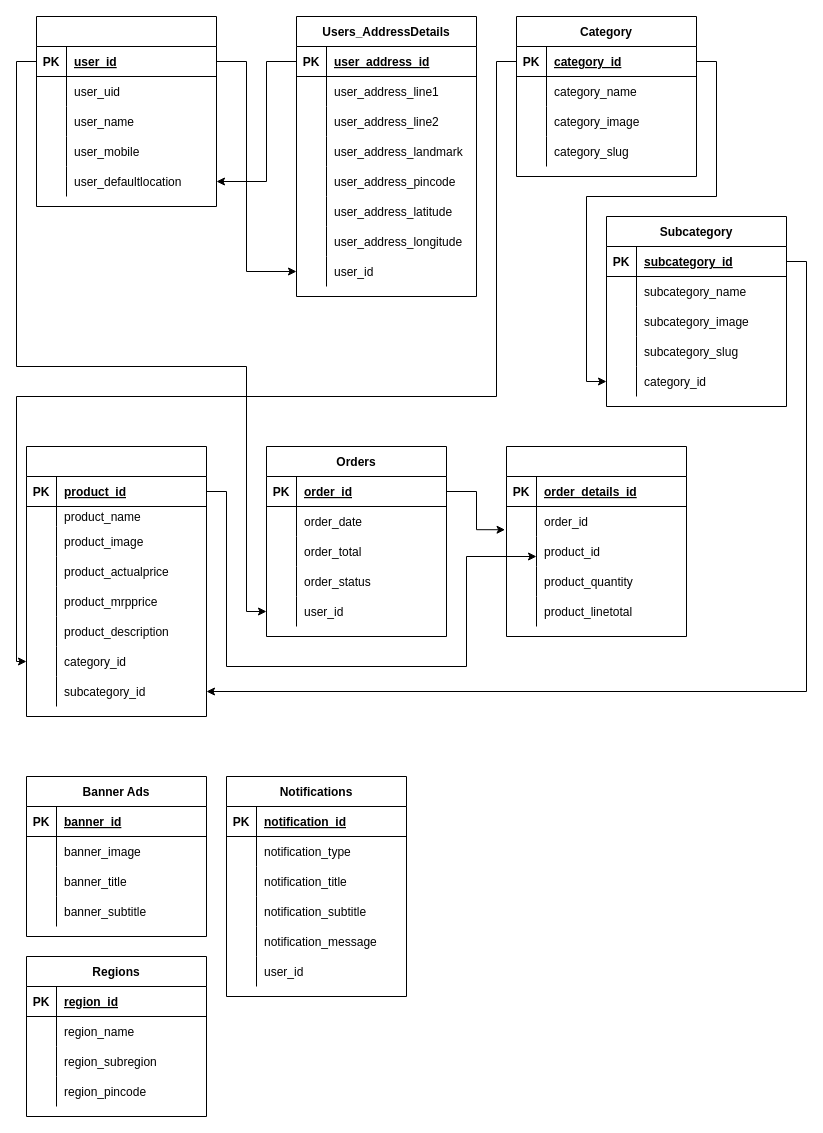
This 823x1133 diagram has some shape labels left out. The box of each missing label's shape, as (x1, y1, x2, y2) in pixels:
Orders_Details: (506, 446, 686, 636)
Products: (26, 446, 206, 716)
Users: (36, 16, 216, 206)
